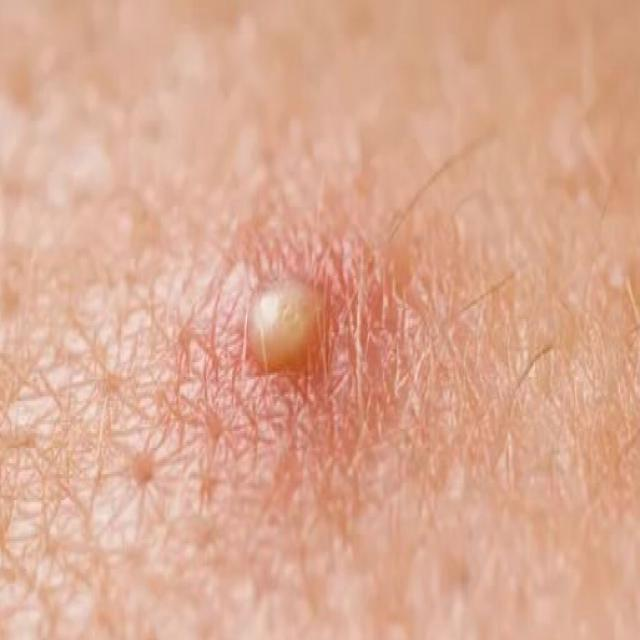Pimples: (223, 239, 339, 407)
